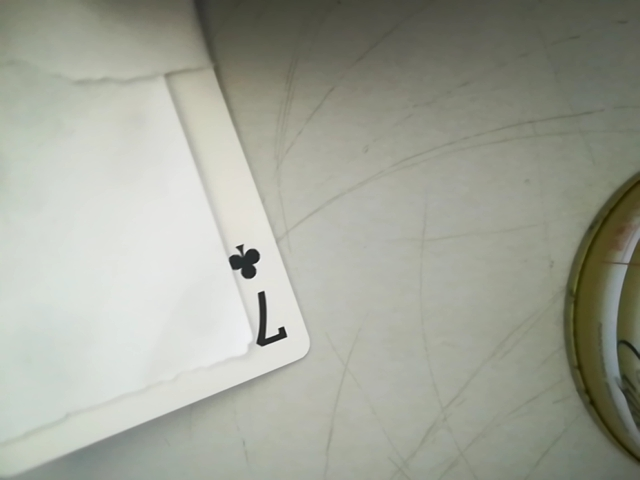mh 7: (217, 228, 283, 346)
